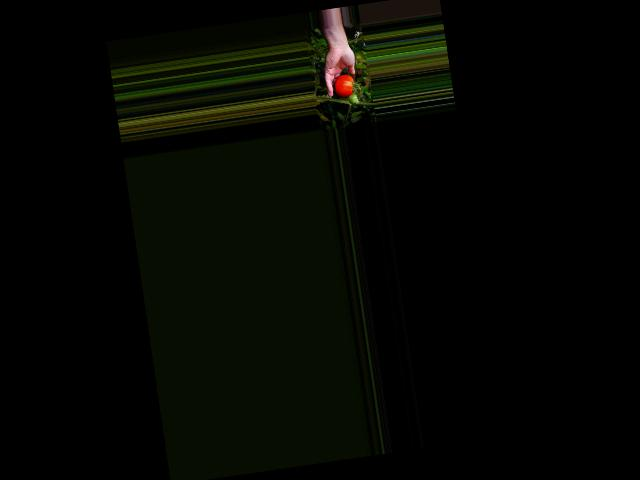tomato: (332, 73, 356, 99)
